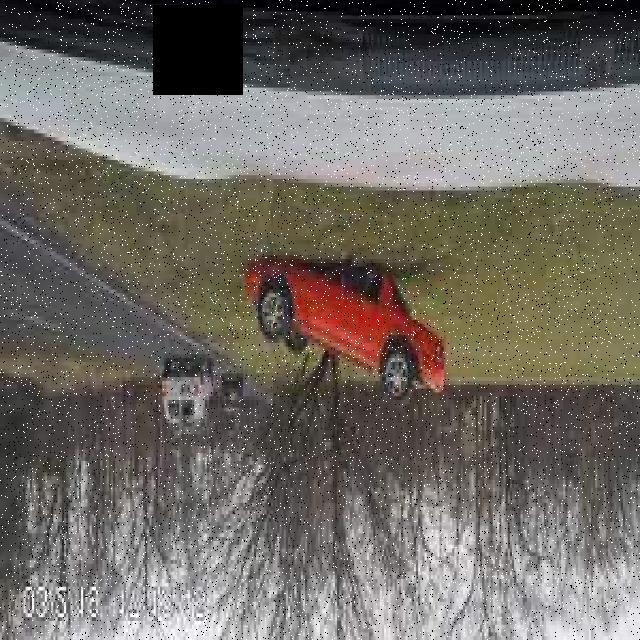severe: (241, 252, 448, 412)
